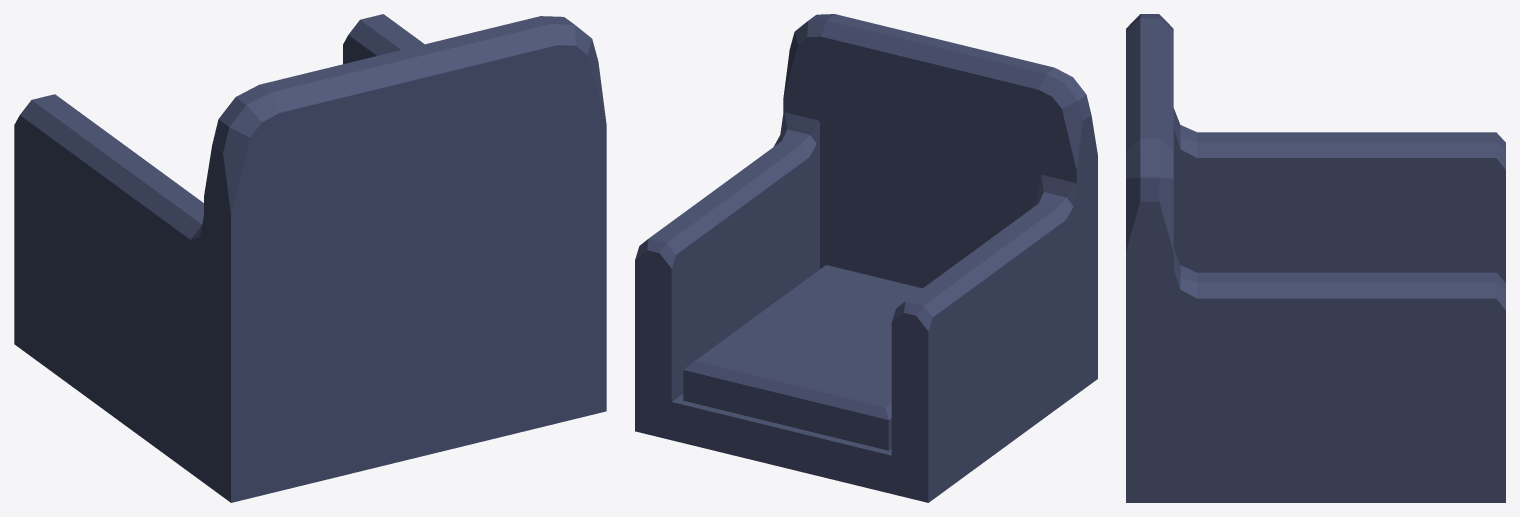
File: couch.fbx
3 views of the same model, side by side, from view 1: azimuth 30°, elevation 25°; view 2: azimuth 150°, elevation 25°; view 3: azimuth 270°, elevation 25° (orthographic). The views are drawn at different scales.
Visible parts, largest first — view 1: Cube.002; view 2: Cube.002; view 3: Cube.002.
Part boxes in pixels (left/top/right/bottom): Cube.002: left=14, top=14, right=606, bottom=502; Cube.002: left=635, top=14, right=1097, bottom=502; Cube.002: left=1126, top=14, right=1505, bottom=502.
Bounding box in the file's own units: 53.33 × 53.33 × 53.33.
